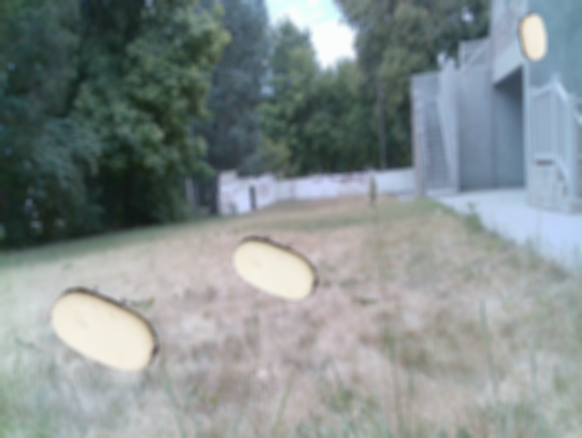test: (41, 261, 172, 395), (224, 214, 329, 320), (502, 7, 560, 65)
